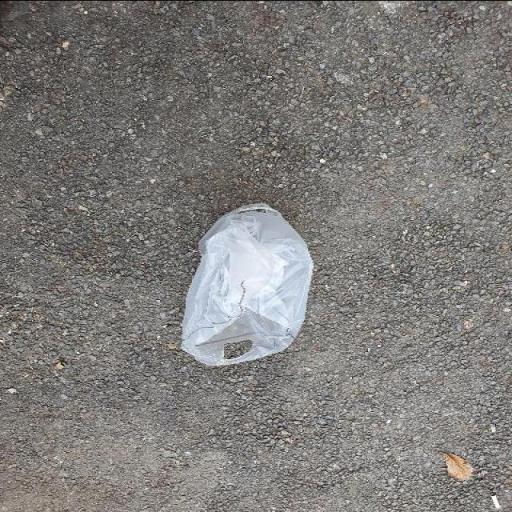plastic-bag: (178, 204, 314, 370)
